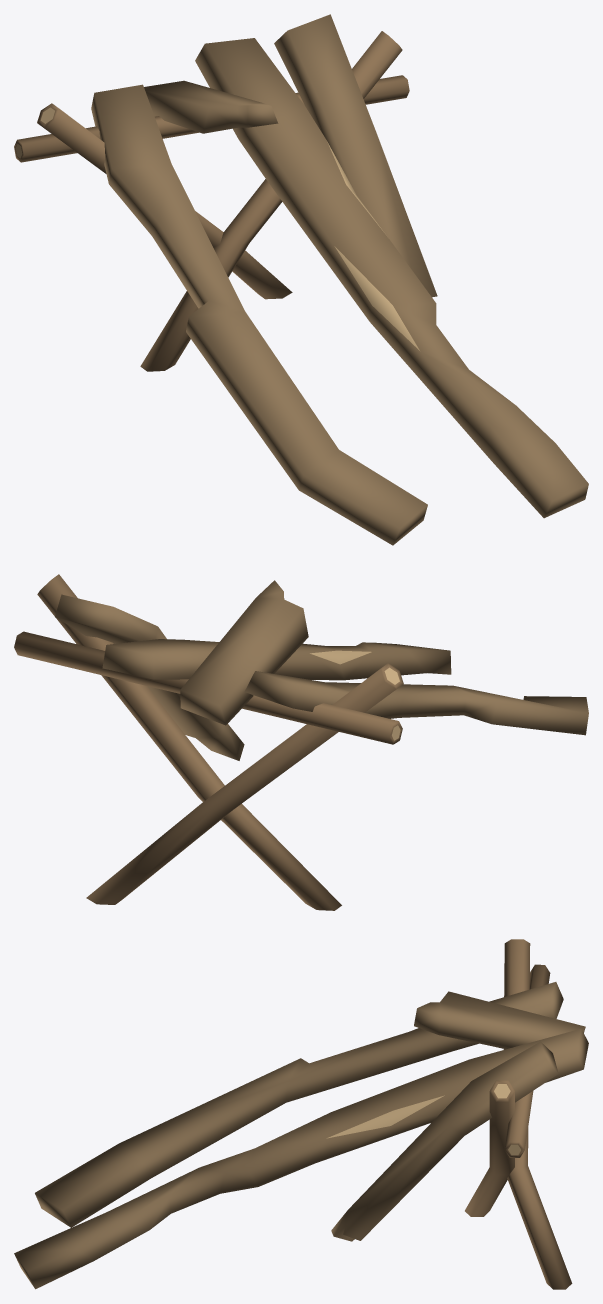
Rendered from rpgpp_av_table_01b.gltf.
3 renders of one model, top to bottom at view 1: azimuth 30°, elevation 25°; view 2: azimuth 150°, elevation 25°; view 3: azimuth 270°, elevation 25°, orthographic. The views are drawn at different scales.
Parts seen in each view (by area): view 1: rpgpp_av_table_01b; view 2: rpgpp_av_table_01b; view 3: rpgpp_av_table_01b.
Boxes of the visible parts, <box> form: rpgpp_av_table_01b: <box>14,14,588,545</box>; rpgpp_av_table_01b: <box>14,574,588,910</box>; rpgpp_av_table_01b: <box>14,939,588,1289</box>.
Size of the model in its own units: 0.013 by 0.00907 by 0.0193.
1 material, 1 textured.
